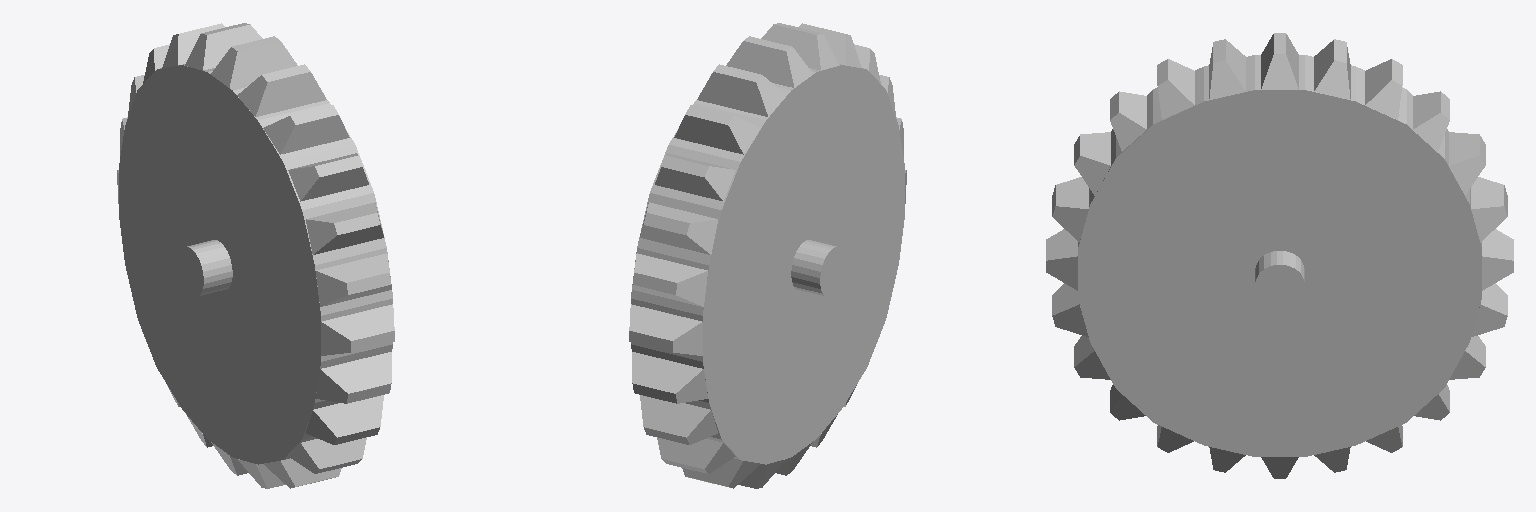
The model's file is LargeCog.obj.
The picture shows the model from 3 angles: view 1: azimuth 30°, elevation 25°; view 2: azimuth 150°, elevation 25°; view 3: azimuth 270°, elevation 25°; orthographic projection.
Parts seen in each view (by area): view 1: entity1_brush13, entity1_brush10, entity1_brush25, entity1_brush2, entity1_brush4, entity1_brush11, entity1_brush3, entity1_brush20, entity1_brush0, entity1_brush14, entity1_brush1, entity1_brush12 (+4 smaller); view 2: entity1_brush13, entity1_brush7, entity1_brush21, entity1_brush9, entity1_brush15, entity1_brush16, entity1_brush22, entity1_brush20, entity1_brush18, entity1_brush14, entity1_brush8, entity1_brush6 (+4 smaller); view 3: entity1_brush13, entity1_brush14, entity1_brush20, entity1_brush21, entity1_brush25, entity1_brush0, entity1_brush18, entity1_brush4, entity1_brush15, entity1_brush3, entity1_brush22, entity1_brush1 (+14 smaller).
Boxes of the visible parts, x1,y1,x2,y2 form: entity1_brush13: [119, 64, 392, 464]; entity1_brush10: [316, 352, 391, 403]; entity1_brush25: [237, 64, 326, 116]; entity1_brush2: [321, 304, 394, 355]; entity1_brush4: [316, 253, 391, 306]; entity1_brush11: [306, 395, 383, 444]; entity1_brush3: [306, 202, 383, 254]; entity1_brush20: [211, 36, 297, 87]; entity1_brush0: [263, 105, 349, 154]; entity1_brush14: [178, 240, 232, 296]; entity1_brush1: [288, 153, 368, 201]; entity1_brush12: [288, 437, 366, 473]; entity1_brush13: [631, 64, 904, 464]; entity1_brush7: [632, 352, 707, 403]; entity1_brush21: [697, 64, 786, 116]; entity1_brush9: [629, 304, 702, 355]; entity1_brush15: [632, 253, 707, 306]; entity1_brush16: [640, 395, 717, 444]; entity1_brush22: [640, 202, 717, 254]; entity1_brush20: [726, 36, 812, 87]; entity1_brush18: [674, 105, 760, 154]; entity1_brush14: [791, 240, 845, 296]; entity1_brush8: [655, 153, 735, 201]; entity1_brush6: [657, 437, 735, 473]; entity1_brush13: [1078, 55, 1481, 456]; entity1_brush14: [1255, 251, 1304, 310]; entity1_brush20: [1261, 33, 1298, 89]; entity1_brush21: [1314, 39, 1350, 99]; entity1_brush25: [1209, 39, 1245, 99]; entity1_brush0: [1157, 59, 1194, 119]; entity1_brush18: [1365, 59, 1402, 119]; entity1_brush4: [1052, 177, 1088, 242]; entity1_brush15: [1471, 177, 1507, 242]; entity1_brush3: [1074, 132, 1110, 195]; entity1_brush22: [1449, 132, 1485, 195]; entity1_brush1: [1110, 91, 1146, 151].
Size of the model in its own units: 9 by 28.12 by 28.12.